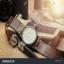watch: (20, 26, 39, 45)
